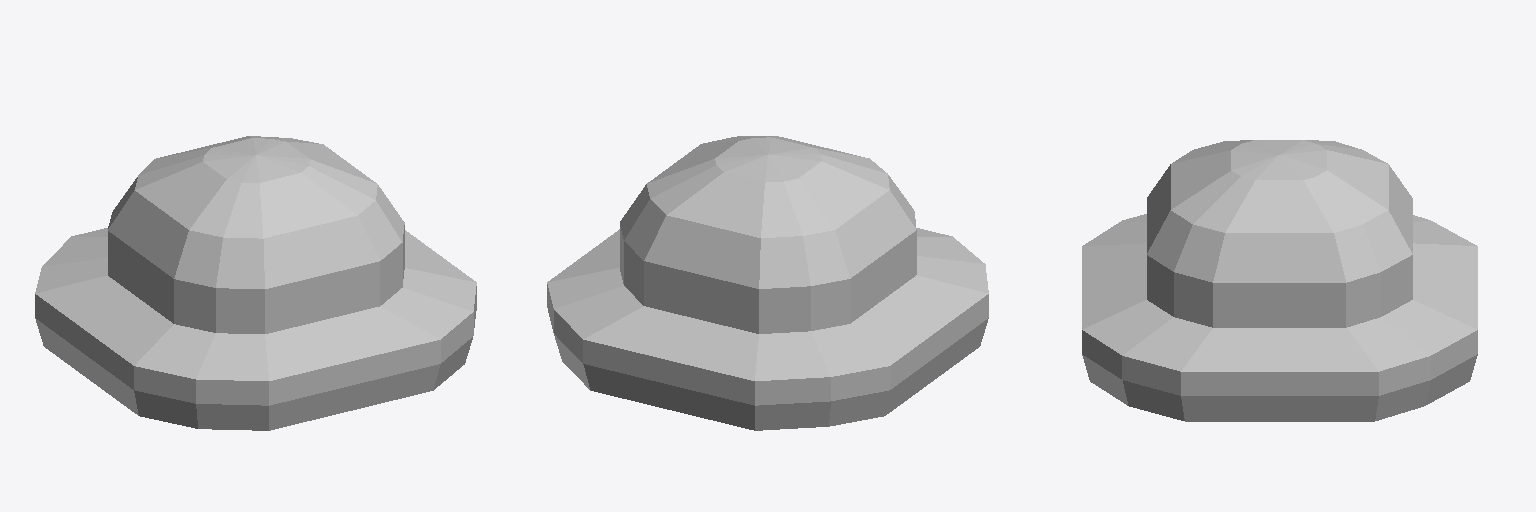
The model's file is ufo3.obj.
The picture shows the model from 3 angles: view 1: azimuth 30°, elevation 25°; view 2: azimuth 150°, elevation 25°; view 3: azimuth 270°, elevation 25°; orthographic projection.
Visible parts, largest first — view 1: Cube; view 2: Cube; view 3: Cube.
Boxes of the visible parts, x1=… form: Cube: x1=35, y1=136, x2=476, y2=430; Cube: x1=547, y1=136, x2=988, y2=430; Cube: x1=1082, y1=140, x2=1477, y2=421.
Bounding box in the file's own units: 3.01 × 1.7 × 3.01.